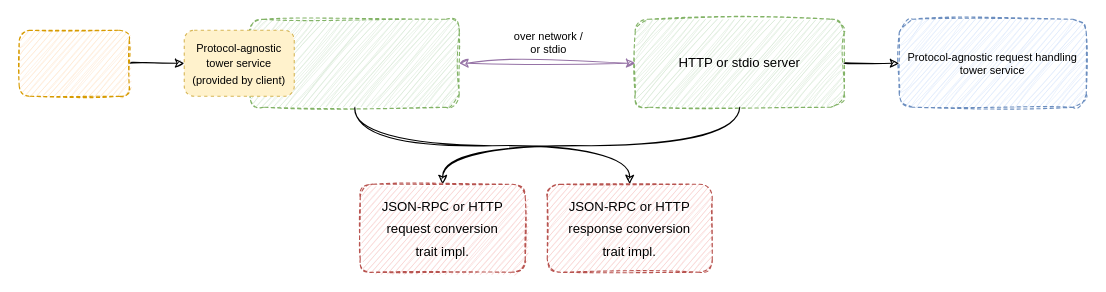
The diagram is 1106 pixels wide and 292 high, and some of its shapes have lost their labels. The centre of each missing label's shape, as x and y in pixels:
Caller: the point at 73,62
HTTP or stdio client: the point at 354,62
